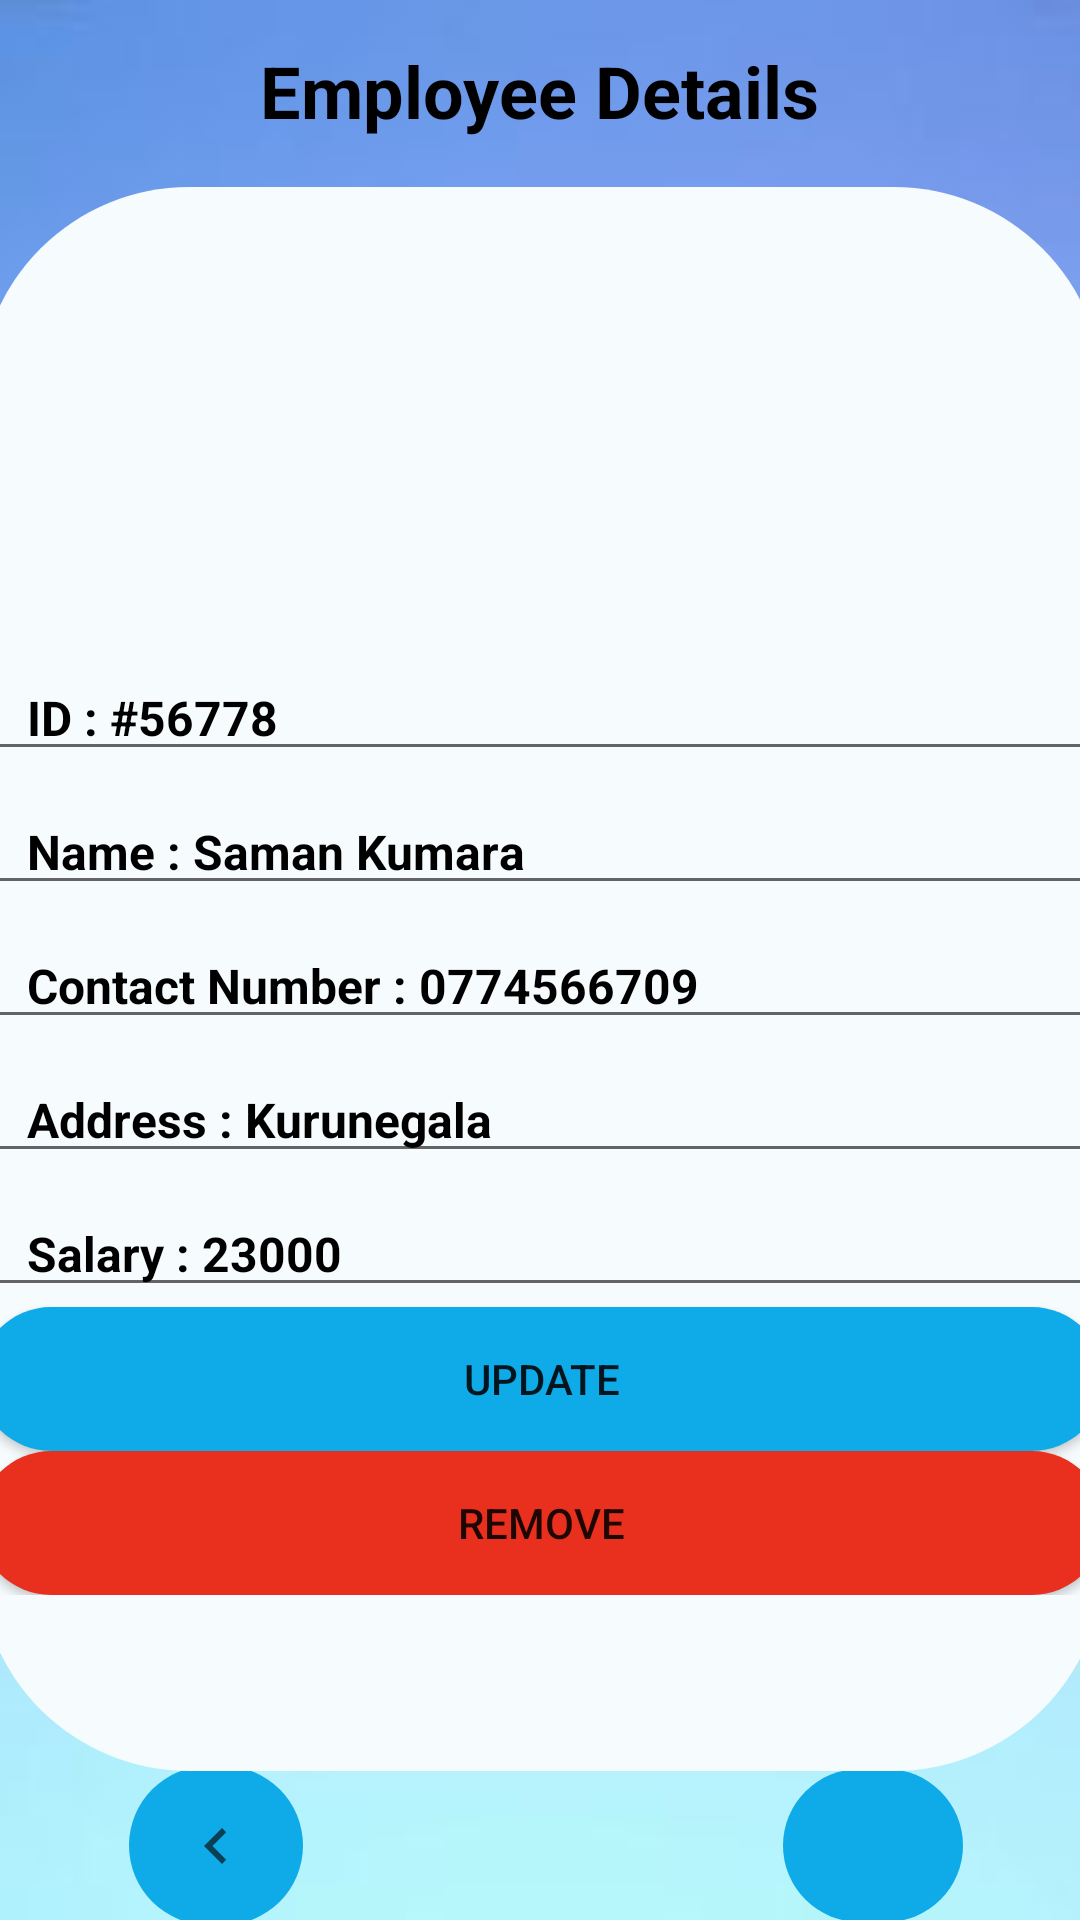

Icon bounding boxes for this 1080×1920 phone screenshot, format {"x1": x1, "y1": y1, "x2": x2, "y2": y2}:
left arrow: {"x1": 129, "y1": 1766, "x2": 303, "y2": 1920}
